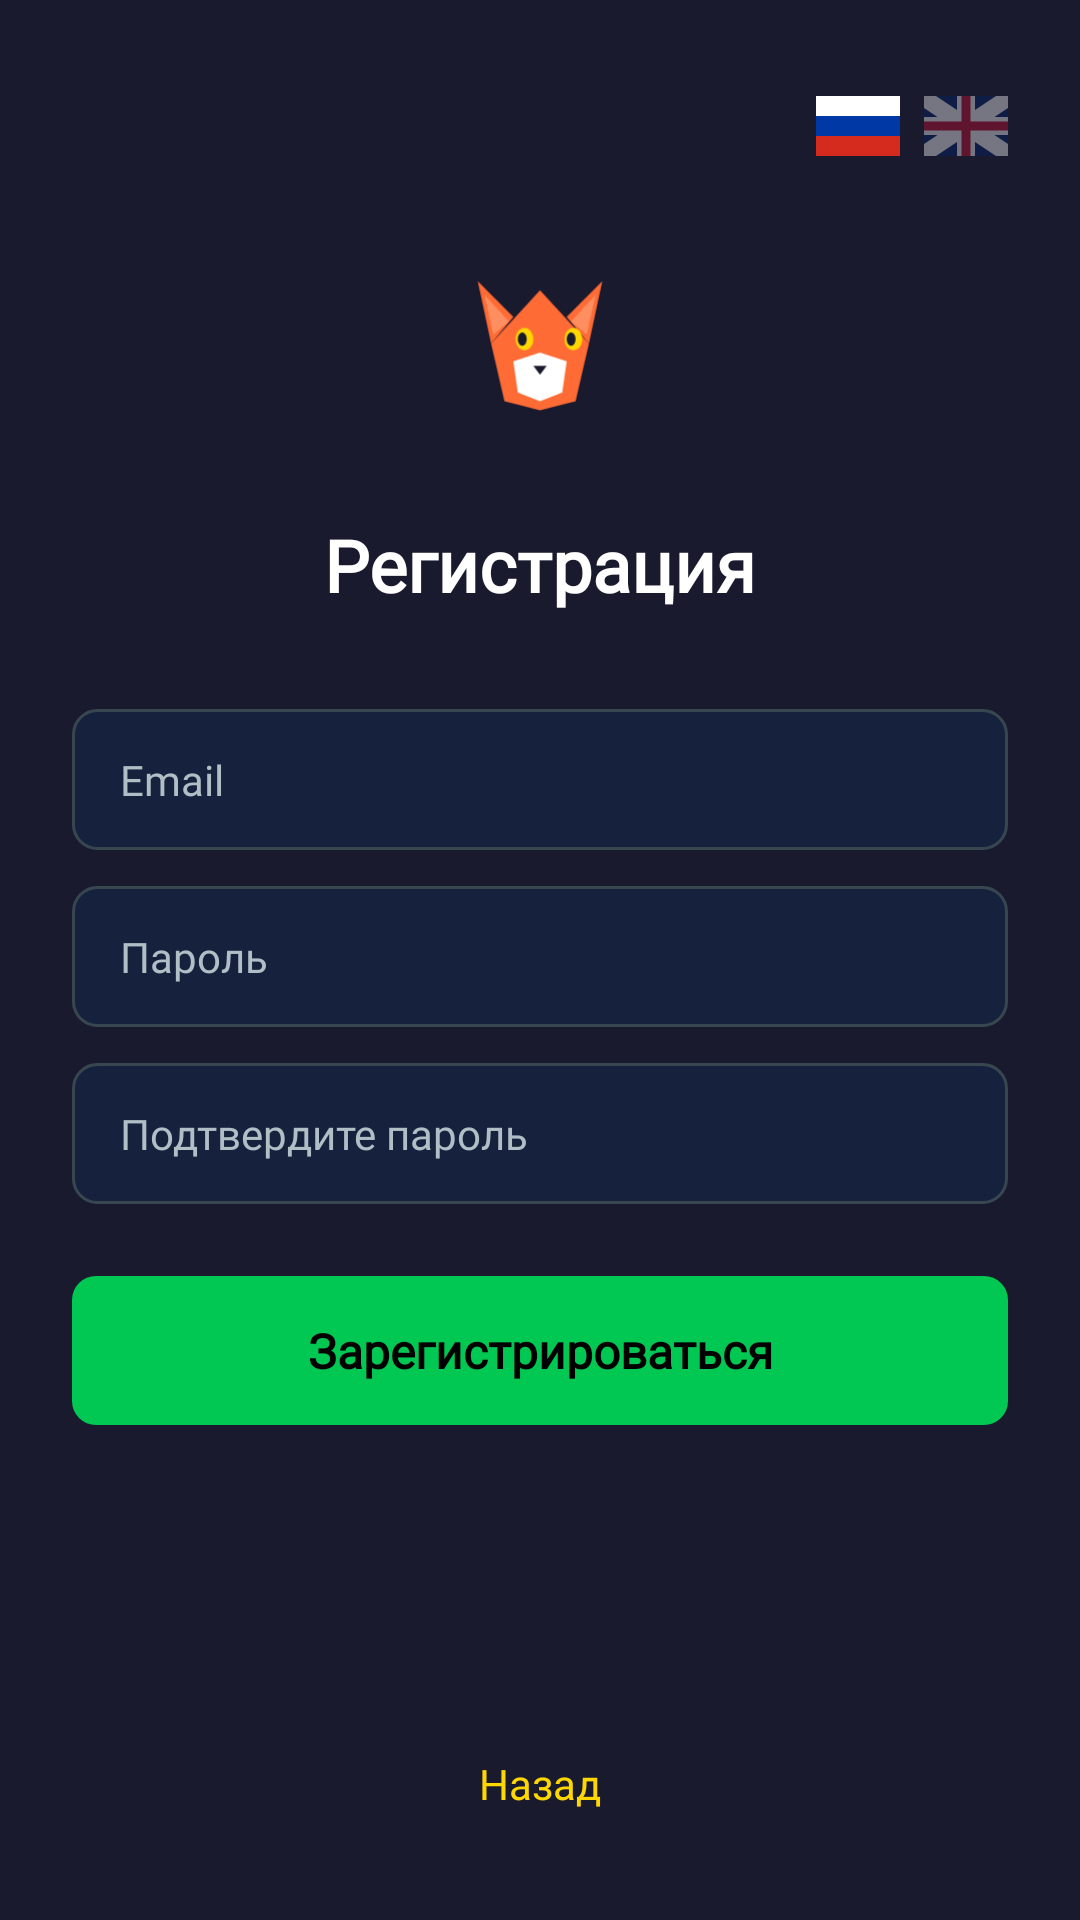

Point at icon controls on the screen. Image size 1080x1920, points as point (x, y).
English: point (966, 126)
Русский: point (858, 126)
